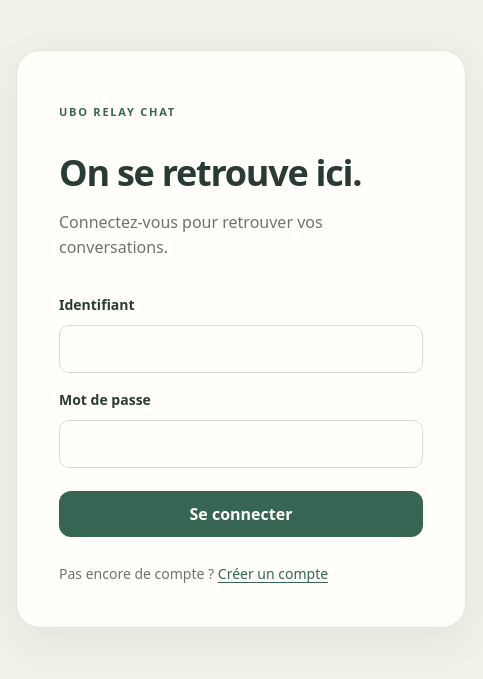
une panne réseau est affichée sans perdre le formulaire
Type "alice" into the field labelled "Identifiant". click: (241, 349)
box: x1=59 y1=325 x2=423 y2=373
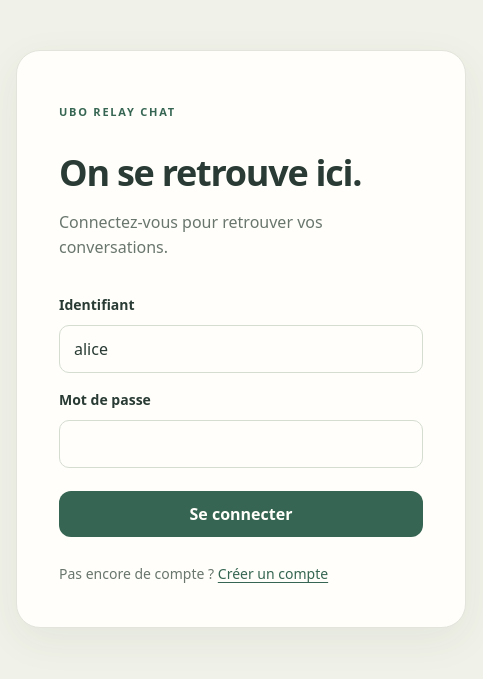
Type "password" into the password field labelled "Mot de passe". click: (241, 444)
box: x1=59 y1=420 x2=423 y2=468
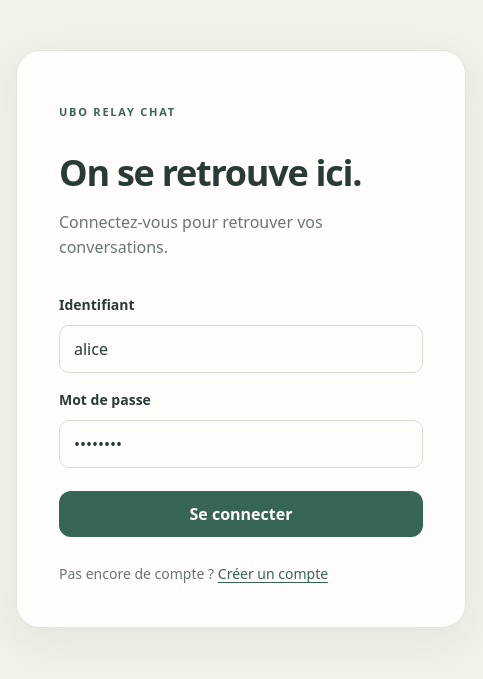
Submit the form "Se connecter", box x1=59 y1=289 x2=423 y2=537
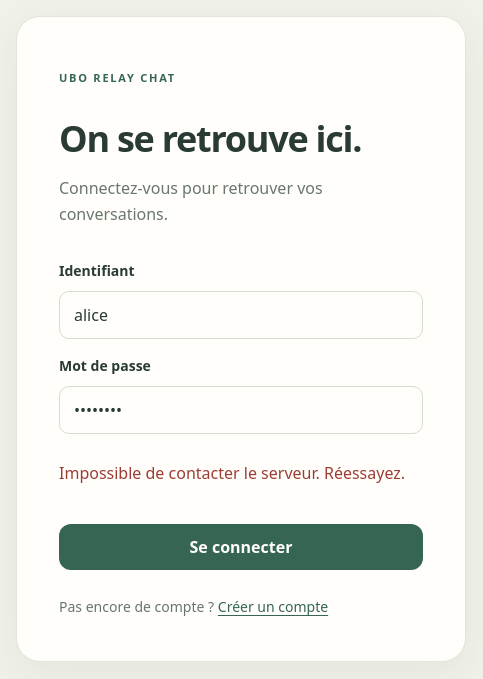
expect the button "Se connecter" is enabled: met, box x1=59 y1=524 x2=423 y2=570
expect the message shows "Impossible de contacter le serveur": met, box x1=59 y1=462 x2=405 y2=484
